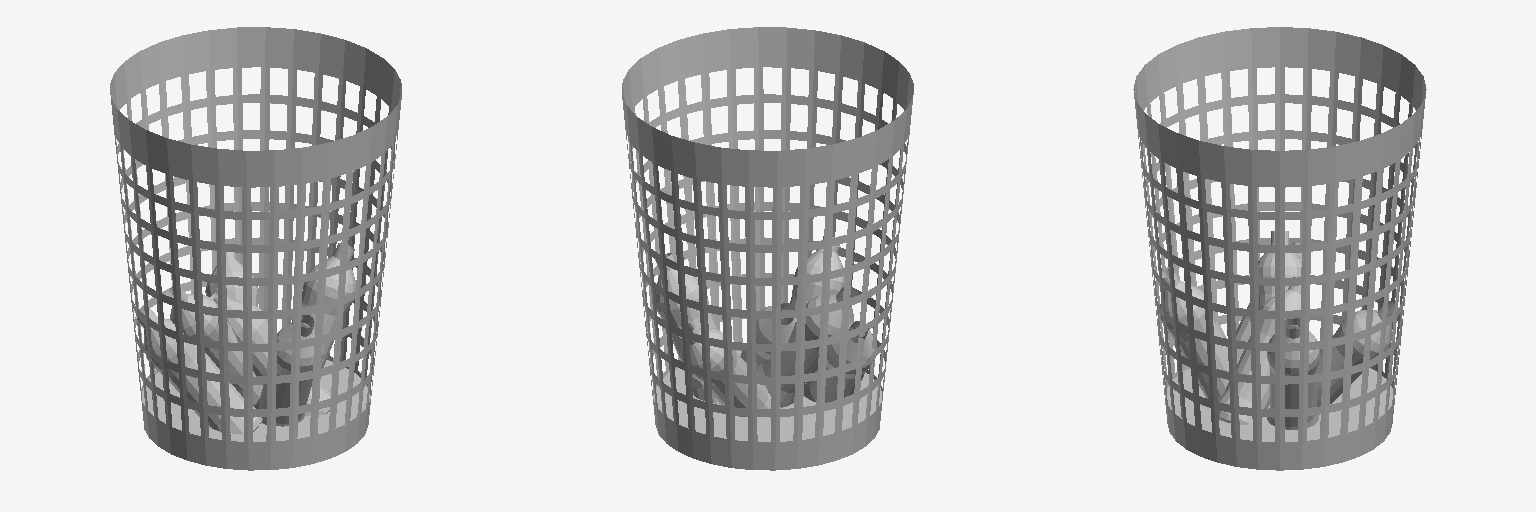
Rendered from DustbinWithCan_000035.obj.
3 renders of one model, left to right at view 1: azimuth 30°, elevation 25°; view 2: azimuth 150°, elevation 25°; view 3: azimuth 270°, elevation 25°, orthographic.
Visible parts, largest first — view 1: Cylinder, Plane.005, Plane.001, Plane.006, Plane.003, Plane.004, Plane.002; view 2: Cylinder, Plane.006, Plane.002, Plane.003, Plane.005, Plane.001, Plane.004; view 3: Cylinder, Plane.001, Plane.004, Plane.003, Plane.002, Plane.006.
Boxes of the visible parts, x1=… form: Cylinder: x1=110, y1=27, x2=401, y2=470; Plane.005: x1=135, y1=307, x2=262, y2=433; Plane.001: x1=255, y1=315, x2=323, y2=426; Plane.006: x1=166, y1=286, x2=262, y2=406; Plane.003: x1=291, y1=243, x2=355, y2=368; Plane.004: x1=210, y1=291, x2=330, y2=415; Plane.002: x1=205, y1=252, x2=258, y2=306; Cylinder: x1=622, y1=27, x2=913, y2=470; Plane.006: x1=757, y1=286, x2=857, y2=407; Plane.002: x1=679, y1=323, x2=780, y2=416; Plane.003: x1=655, y1=253, x2=719, y2=403; Plane.005: x1=804, y1=321, x2=876, y2=402; Plane.001: x1=790, y1=236, x2=843, y2=383; Plane.004: x1=740, y1=303, x2=796, y2=365; Cylinder: x1=1133, y1=27, x2=1426, y2=470; Plane.001: x1=1160, y1=269, x2=1238, y2=399; Plane.004: x1=1218, y1=277, x2=1300, y2=424; Plane.003: x1=1267, y1=318, x2=1319, y2=429; Plane.002: x1=1317, y1=301, x2=1394, y2=406; Plane.006: x1=1258, y1=231, x2=1301, y2=308.
Size of the model in its own units: 2.6 by 3.27 by 2.6.